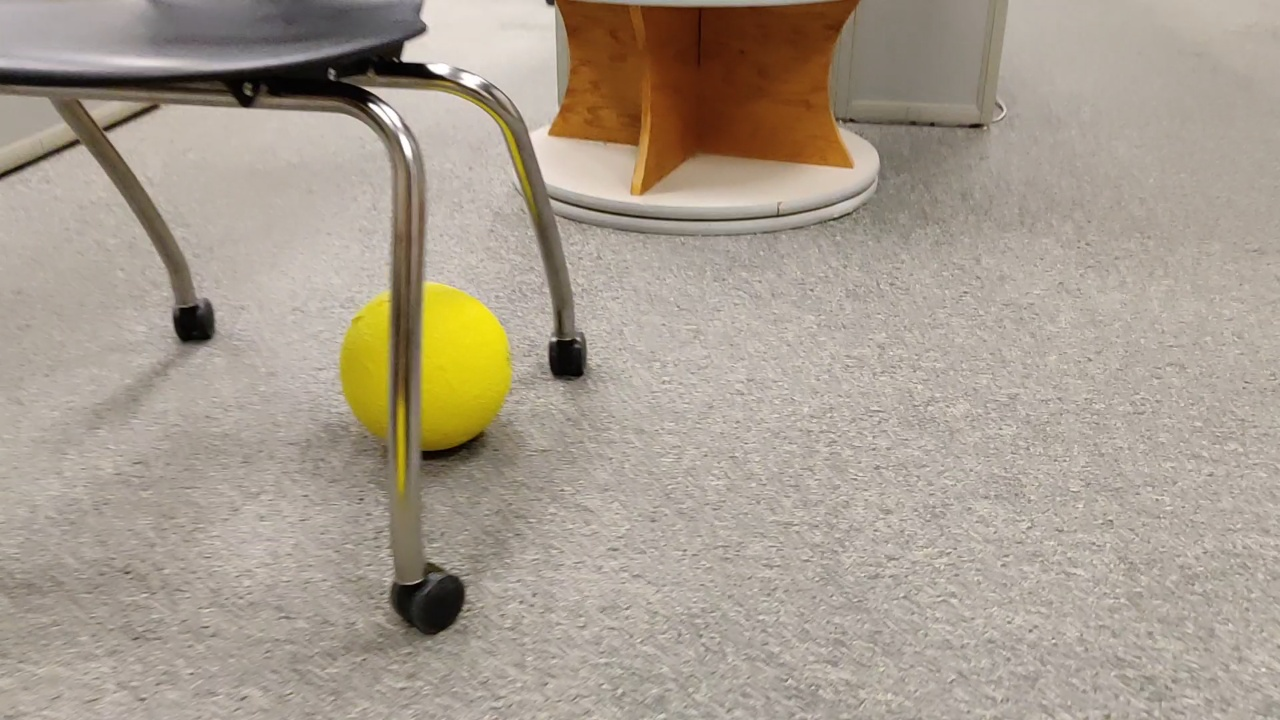Ball: (340, 283, 517, 451)
